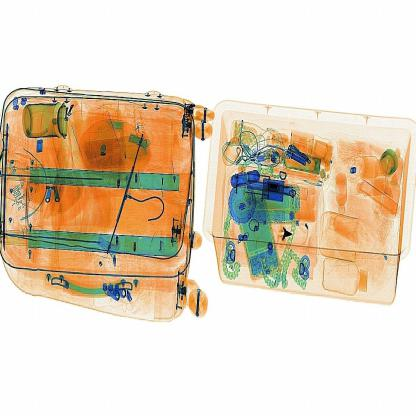gun: (268, 216, 299, 253)
